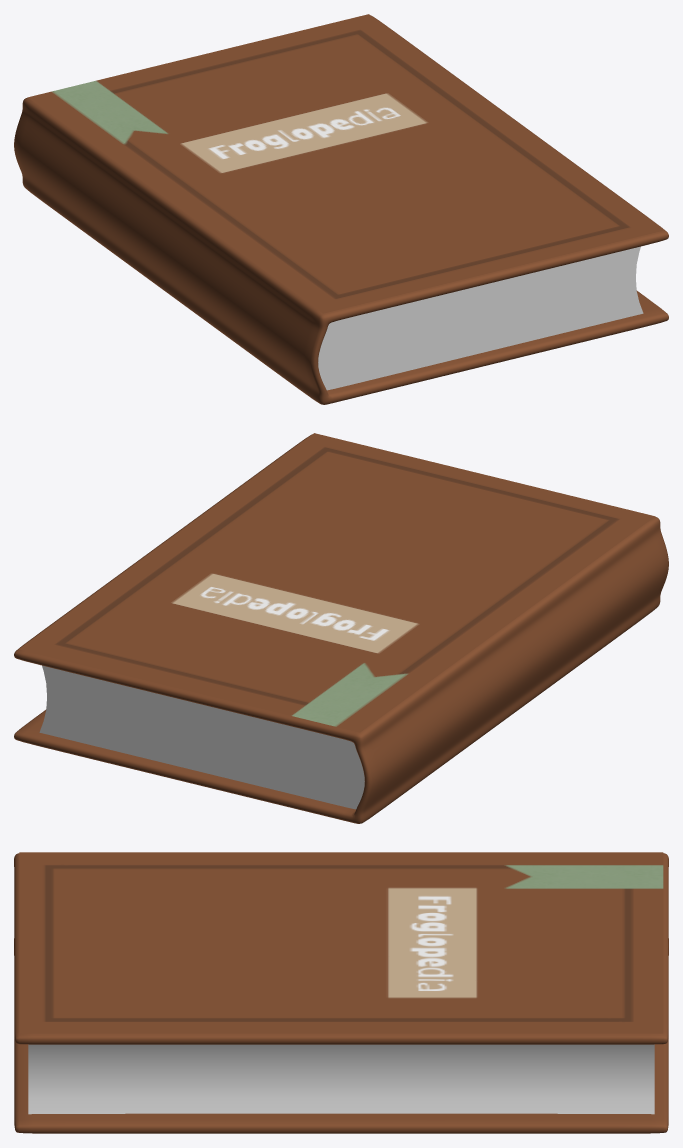
Rendered from FrogBook.fbx.
3 renders of one model, top to bottom at view 1: azimuth 30°, elevation 25°; view 2: azimuth 150°, elevation 25°; view 3: azimuth 270°, elevation 25°, orthographic. The views are drawn at different scales.
Visible parts, largest first — view 1: Front, Book, Sheets; view 2: Front, Book, Sheets; view 3: Front, Sheets, Book.
Part boxes in pixels (bbox=[...]): Front: bbox=[28, 14, 663, 313]; Book: bbox=[14, 15, 668, 404]; Sheets: bbox=[318, 246, 643, 390]; Front: bbox=[19, 433, 654, 732]; Book: bbox=[14, 434, 668, 823]; Sheets: bbox=[39, 665, 364, 809]; Front: bbox=[19, 852, 663, 1033]; Sheets: bbox=[28, 1044, 654, 1114]; Book: bbox=[14, 853, 668, 1133].
Size of the model in its own units: 20.46 by 5.01 by 29.7.
